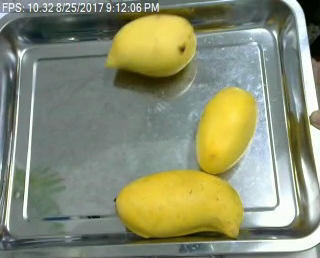Mango: (113, 169, 245, 241), (106, 12, 197, 78), (195, 88, 258, 173)
